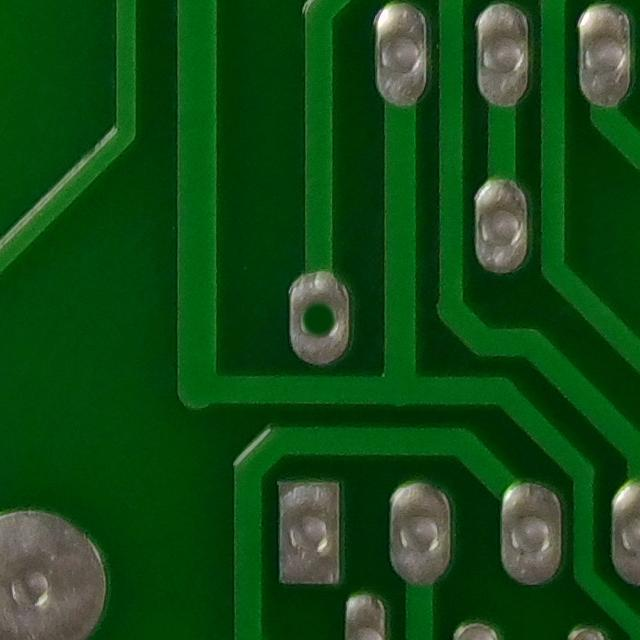missing_hole: (280, 278, 357, 362)
